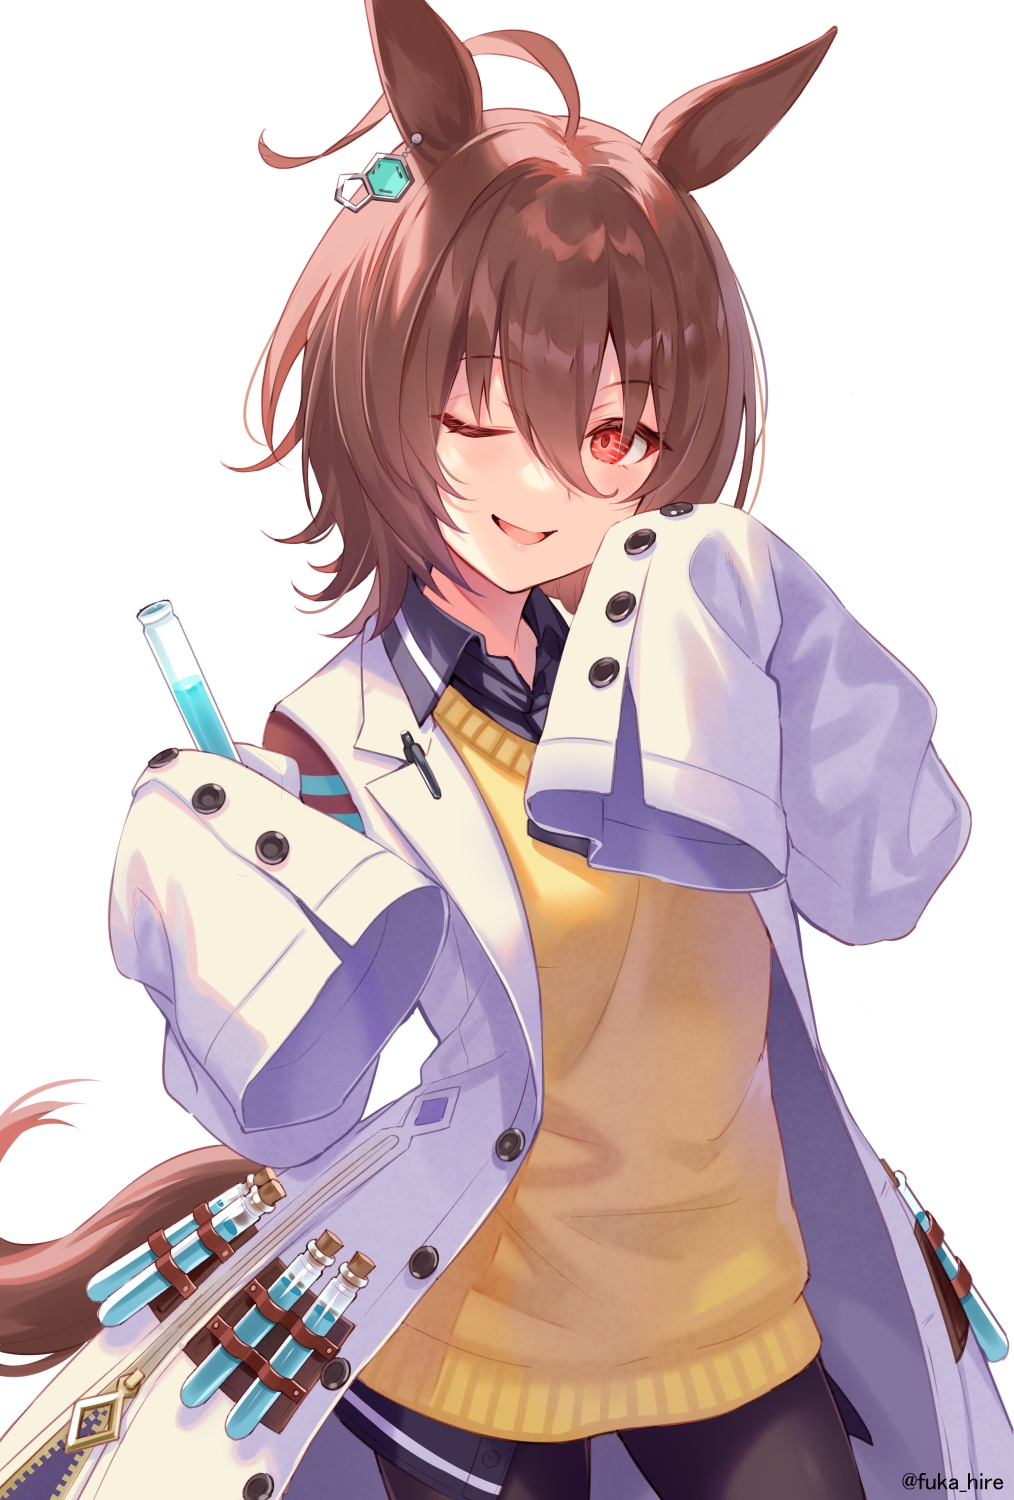纸片人正脸: (274, 29, 804, 656)
